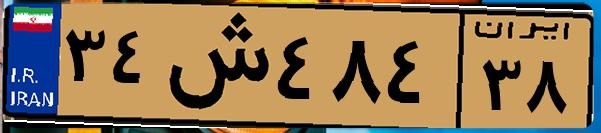3: (57, 26, 110, 100), (475, 38, 525, 113)
4: (270, 28, 330, 110), (385, 28, 445, 110), (110, 28, 158, 98)
8: (330, 28, 385, 110), (525, 38, 570, 115)
ش: (158, 12, 270, 120)
